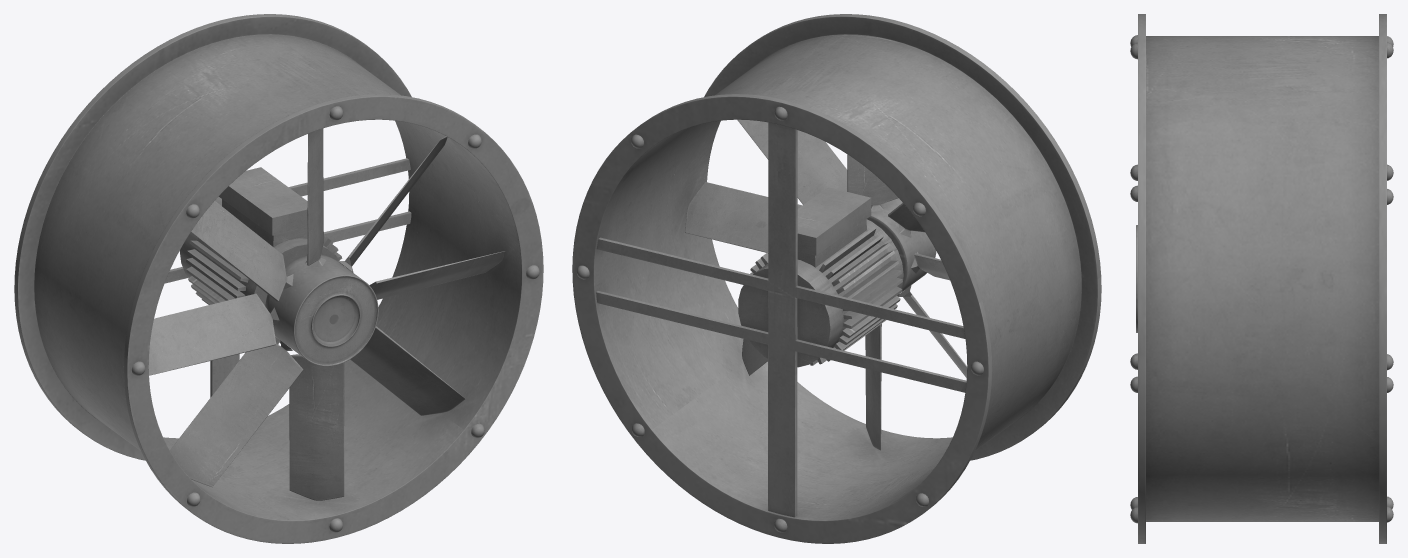
File: Axial_Flow.fbx
3 views of the same model, side by side, from view 1: azimuth 30°, elevation 25°; view 2: azimuth 150°, elevation 25°; view 3: azimuth 270°, elevation 25° (orthographic). The views are drawn at different scales.
Parts seen in each view (by area): view 1: Body, Fan; view 2: Body, Fan; view 3: Body.
Part boxes in pixels (left/top/right/bottom): Body: left=14, top=14, right=543, bottom=543; Fan: left=148, top=128, right=505, bottom=500; Body: left=572, top=14, right=1101, bottom=543; Fan: left=685, top=119, right=967, bottom=450; Body: left=1130, top=14, right=1393, bottom=543.
Bounding box in the file's own units: 19.59 × 19.59 × 9.73.
Materials: 1 (1 with a texture image).
